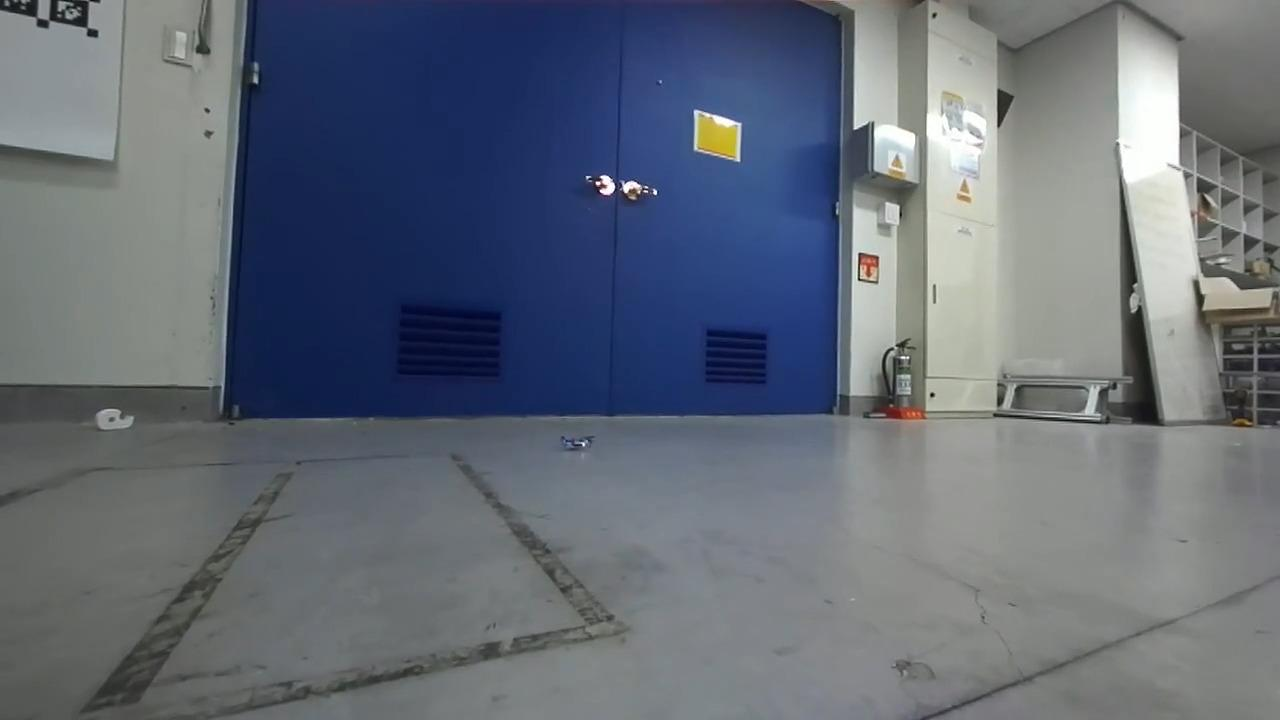crazyflie: (549, 427, 601, 457)
